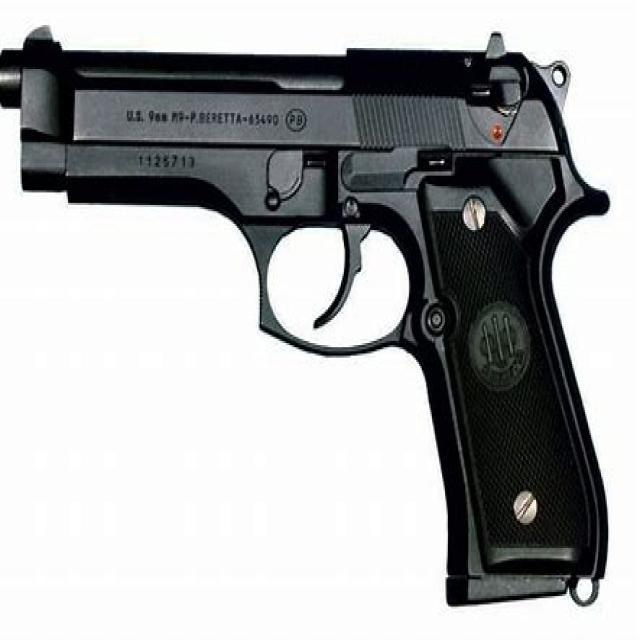Pistol: (6, 13, 625, 632)
